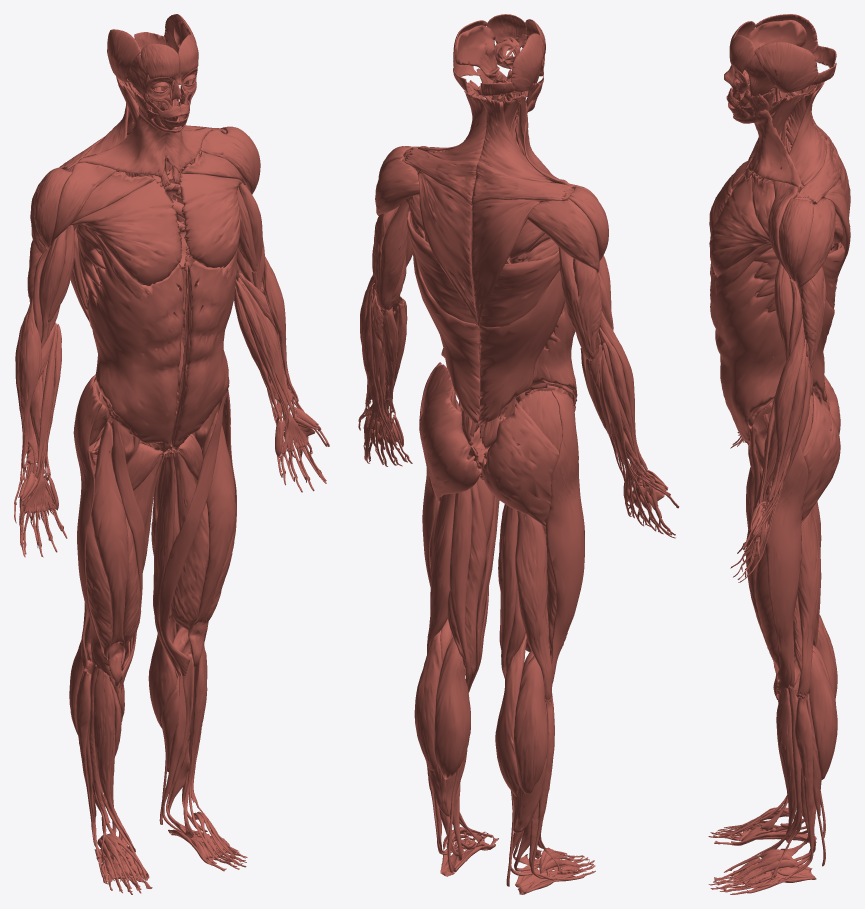
Rendered from muscles.glb.
3 renders of one model, left to right at view 1: azimuth 30°, elevation 25°; view 2: azimuth 150°, elevation 25°; view 3: azimuth 270°, elevation 25°, orthographic.
Parts seen in each view (by area): view 1: muscles-a0399c244657, muscles-33f3d0951bf3, muscles-a37e0a05a2d2, muscles-fc1ad71e9ef5, muscles-ef066e3635be, muscles-1ad68c891597, muscles-1015b69ae076, muscles-c50e8a3180cf, muscles-981cc629c912, muscles-5af4352e248a, muscles-a88fde0fa128, muscles-60d4548da007 (+42 smaller); view 2: muscles-bc7dbad5f968, muscles-c50e8a3180cf, muscles-98e8733790d1, muscles-9f9ffda6d5ea, muscles-6b8257bf0a5d, muscles-abed6255478a, muscles-db4c9d48439b, muscles-2ba0b1feac68, muscles-a5d8eb10a862, muscles-086ab68959e8, muscles-3d3652cd3db0, muscles-bf84fa47e064 (+36 smaller); view 3: muscles-a37e0a05a2d2, muscles-119decb9d97f, muscles-ef066e3635be, muscles-4c03c18e26d3, muscles-db4c9d48439b, muscles-49aa2bae7160, muscles-653a39515c39, muscles-8329b91f3f66, muscles-507137502558, muscles-b74d57488ced, muscles-0378b861a51b, muscles-03d11aa52a6f (+41 smaller).
Boxes of the visible parts, left/top/right/bottom form: muscles-a0399c244657: left=86, top=251, right=183, bottom=443; muscles-33f3d0951bf3: left=70, top=180, right=182, bottom=285; muscles-a37e0a05a2d2: left=178, top=255, right=236, bottom=441; muscles-fc1ad71e9ef5: left=91, top=421, right=128, bottom=686; muscles-ef066e3635be: left=179, top=173, right=242, bottom=268; muscles-1ad68c891597: left=188, top=410, right=235, bottom=667; muscles-1015b69ae076: left=159, top=391, right=227, bottom=677; muscles-c50e8a3180cf: left=73, top=374, right=111, bottom=676; muscles-981cc629c912: left=78, top=107, right=177, bottom=177; muscles-5af4352e248a: left=171, top=503, right=209, bottom=653; muscles-a88fde0fa128: left=153, top=451, right=180, bottom=678; muscles-60d4548da007: left=93, top=668, right=135, bottom=852; muscles-bc7dbad5f968: left=478, top=250, right=564, bottom=424; muscles-c50e8a3180cf: left=546, top=390, right=584, bottom=683; muscles-98e8733790d1: left=481, top=402, right=559, bottom=527; muscles-9f9ffda6d5ea: left=407, top=211, right=480, bottom=422; muscles-6b8257bf0a5d: left=417, top=170, right=478, bottom=326; muscles-abed6255478a: left=515, top=510, right=552, bottom=699; muscles-db4c9d48439b: left=419, top=387, right=481, bottom=501; muscles-2ba0b1feac68: left=471, top=199, right=548, bottom=327; muscles-a5d8eb10a862: left=434, top=637, right=470, bottom=779; muscles-086ab68959e8: left=513, top=656, right=547, bottom=793; muscles-3d3652cd3db0: left=527, top=198, right=599, bottom=273; muscles-bf84fa47e064: left=449, top=488, right=472, bottom=687; muscles-a37e0a05a2d2: left=710, top=261, right=786, bottom=441; muscles-119decb9d97f: left=763, top=411, right=808, bottom=691; muscles-ef066e3635be: left=709, top=177, right=770, bottom=275; muscles-4c03c18e26d3: left=797, top=508, right=821, bottom=696; muscles-db4c9d48439b: left=801, top=392, right=840, bottom=522; muscles-49aa2bae7160: left=754, top=41, right=818, bottom=92; muscles-653a39515c39: left=809, top=651, right=837, bottom=779; muscles-8329b91f3f66: left=733, top=109, right=801, bottom=188; muscles-507137502558: left=767, top=317, right=804, bottom=503; muscles-b74d57488ced: left=778, top=198, right=813, bottom=281; muscles-0378b861a51b: left=795, top=199, right=835, bottom=290; muscles-03d11aa52a6f: left=789, top=82, right=826, bottom=185.
Size of the model in its own units: 0.6601 by 1.67 by 0.2584.
